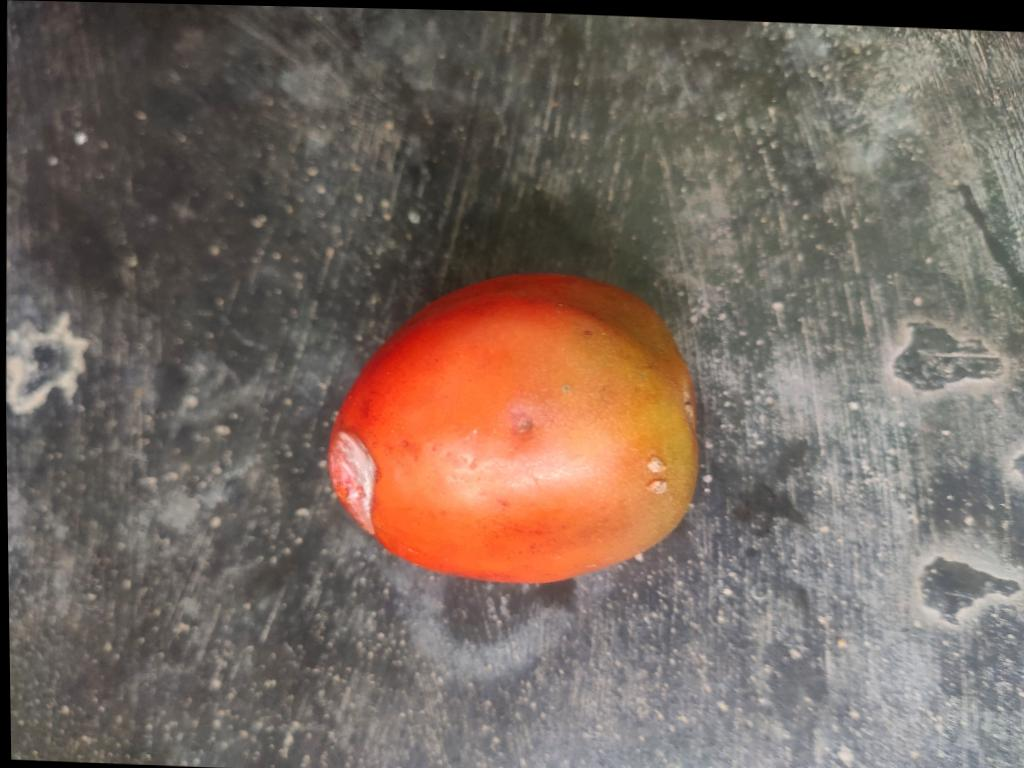rot_mold_decay: (329, 432, 375, 533)
surface_damage: (329, 431, 375, 533)
tomato: (329, 274, 697, 581)
